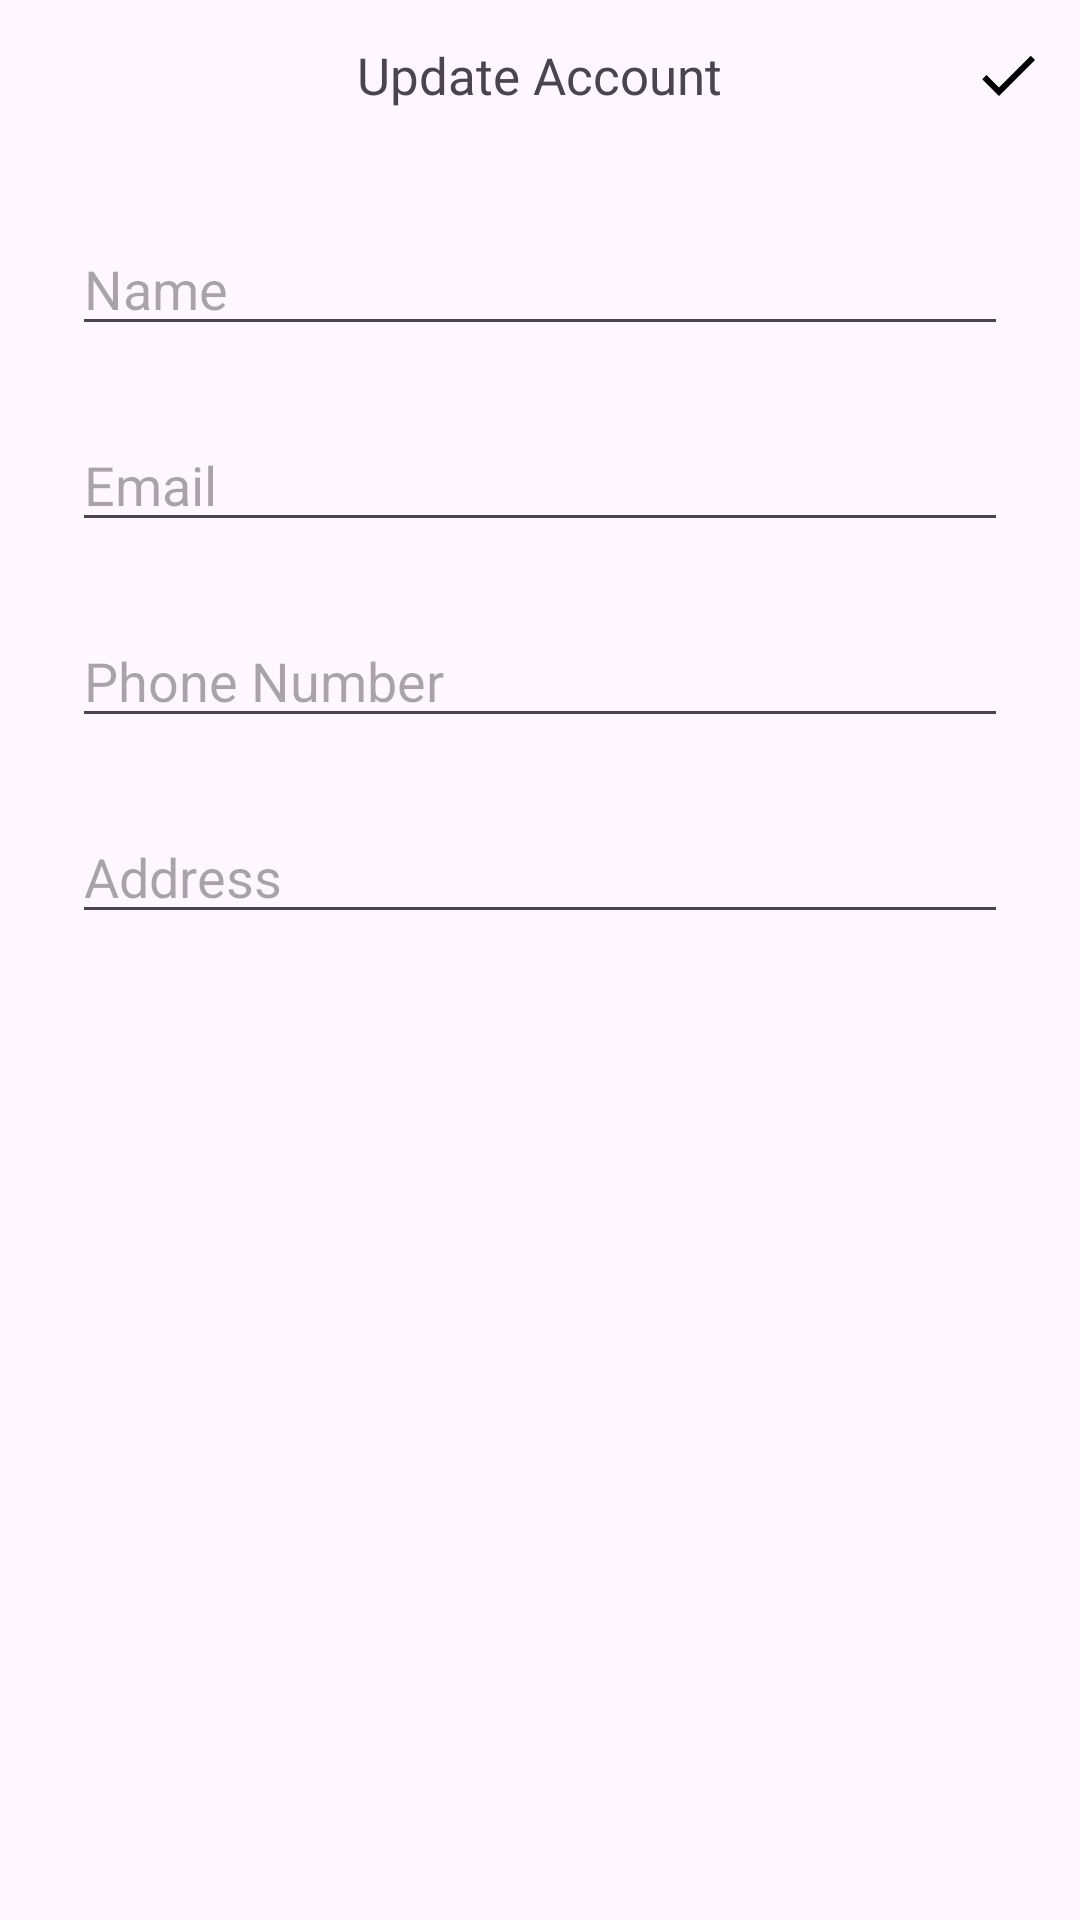

Icons on this 1080*1920 Android screen, each with its box as (x1, y1, x2, y2):
check: (982, 56, 1035, 96)
